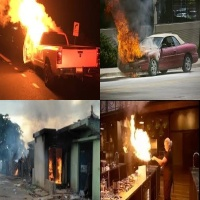fire: (112, 16, 144, 60), (125, 113, 152, 161), (19, 0, 47, 44), (49, 157, 61, 183), (14, 167, 18, 175)
